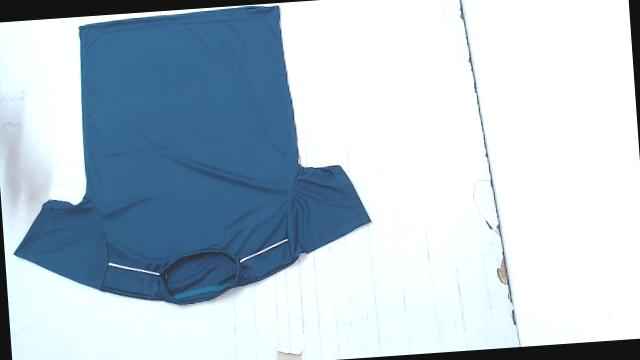new-garment: (15, 6, 370, 304)
